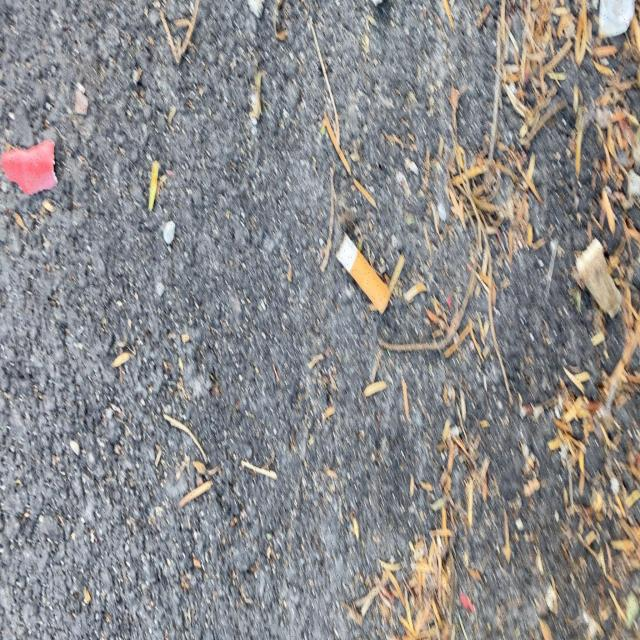other waste: (336, 231, 390, 315)
